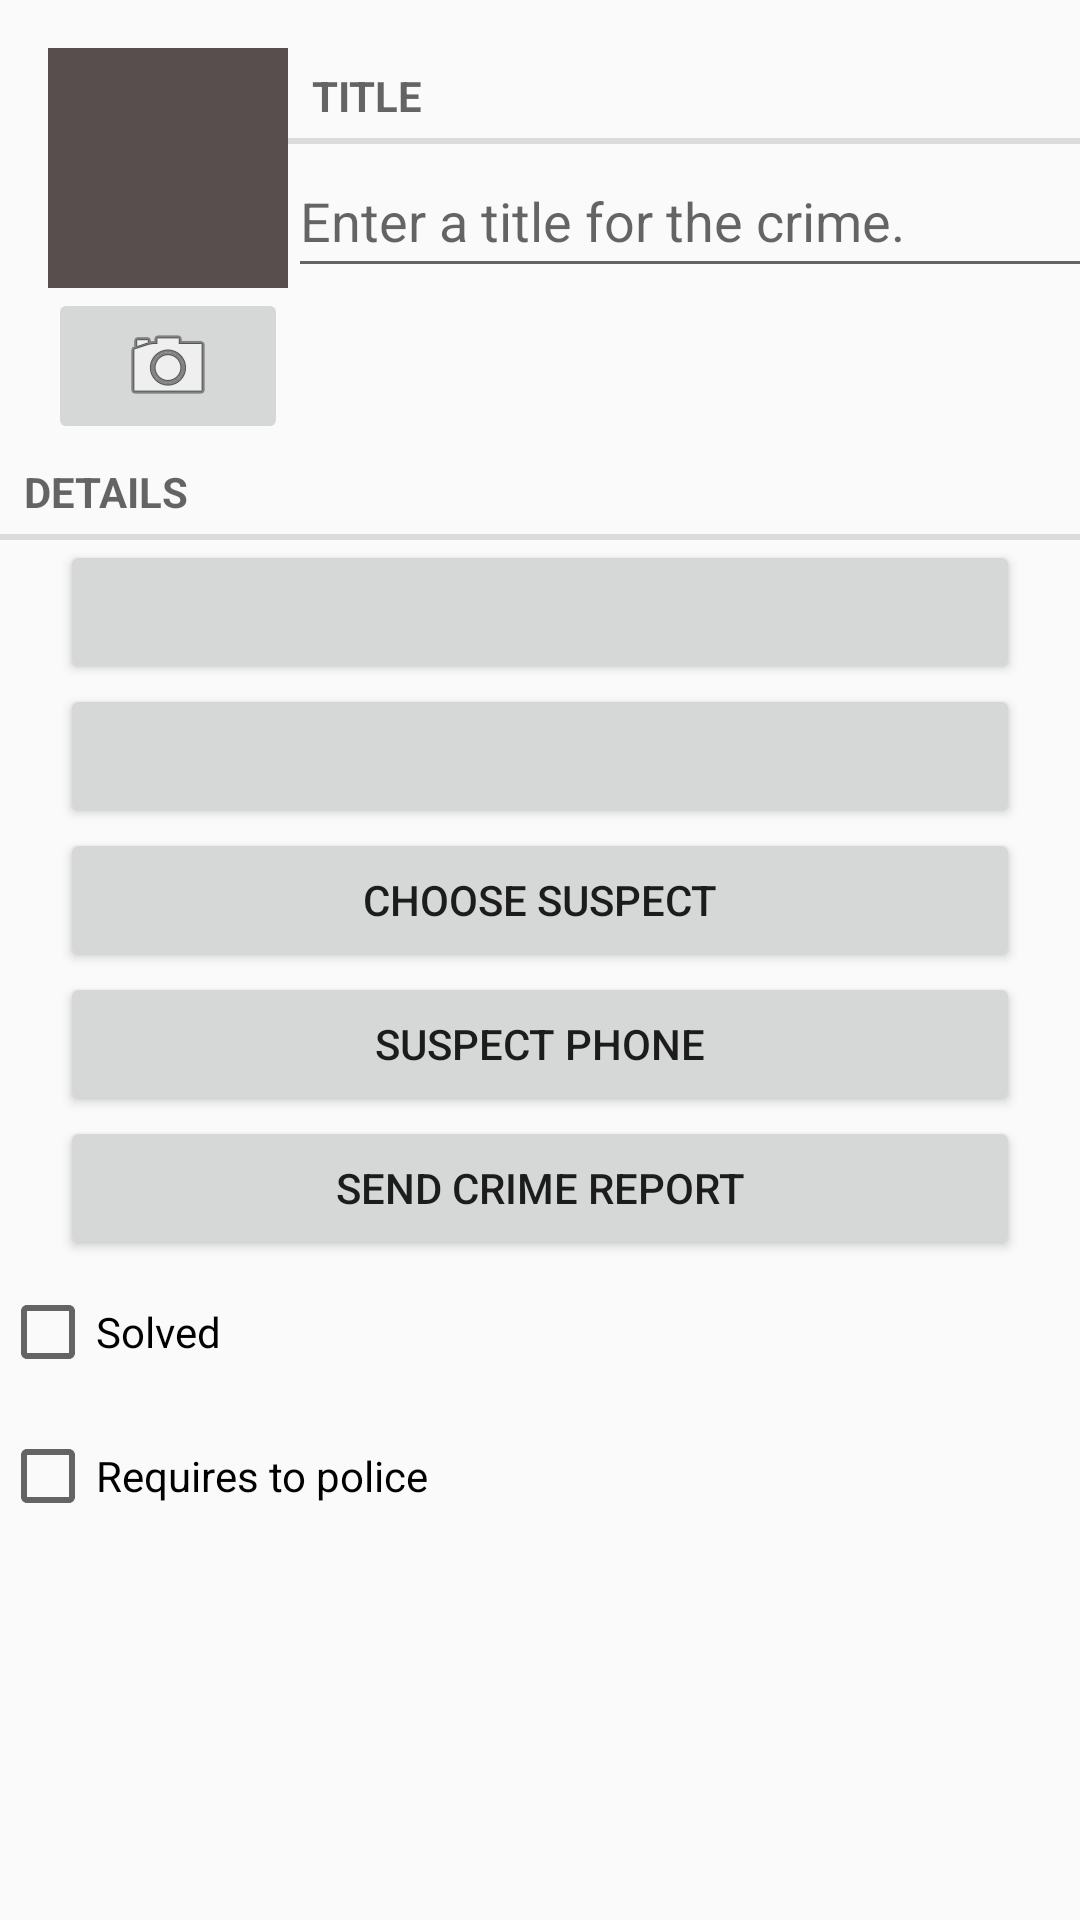

Where to tap for icons on this 1080 × 1920 app screen, as point (x, y):
Take photo of crime scene: point (168, 366)
